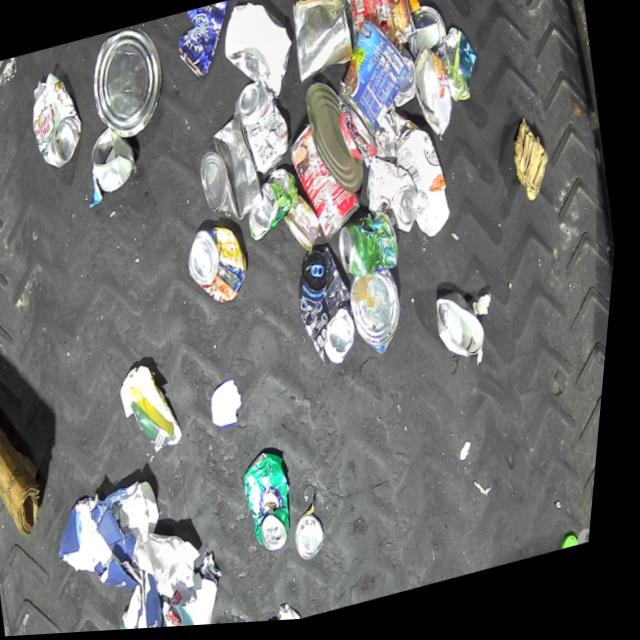can: (320, 12, 424, 150), (280, 115, 376, 251), (77, 20, 178, 148), (288, 243, 374, 377), (188, 110, 276, 232), (297, 75, 376, 204), (19, 65, 95, 175), (225, 77, 301, 183), (241, 449, 312, 562), (182, 220, 260, 313), (357, 150, 430, 248), (282, 0, 362, 88), (347, 270, 417, 365), (167, 2, 240, 87), (403, 44, 463, 147), (333, 211, 407, 286), (433, 292, 498, 375), (240, 167, 309, 245), (336, 0, 421, 59), (84, 120, 144, 195), (279, 192, 331, 260), (400, 3, 452, 65), (383, 47, 424, 114), (298, 514, 339, 567)
